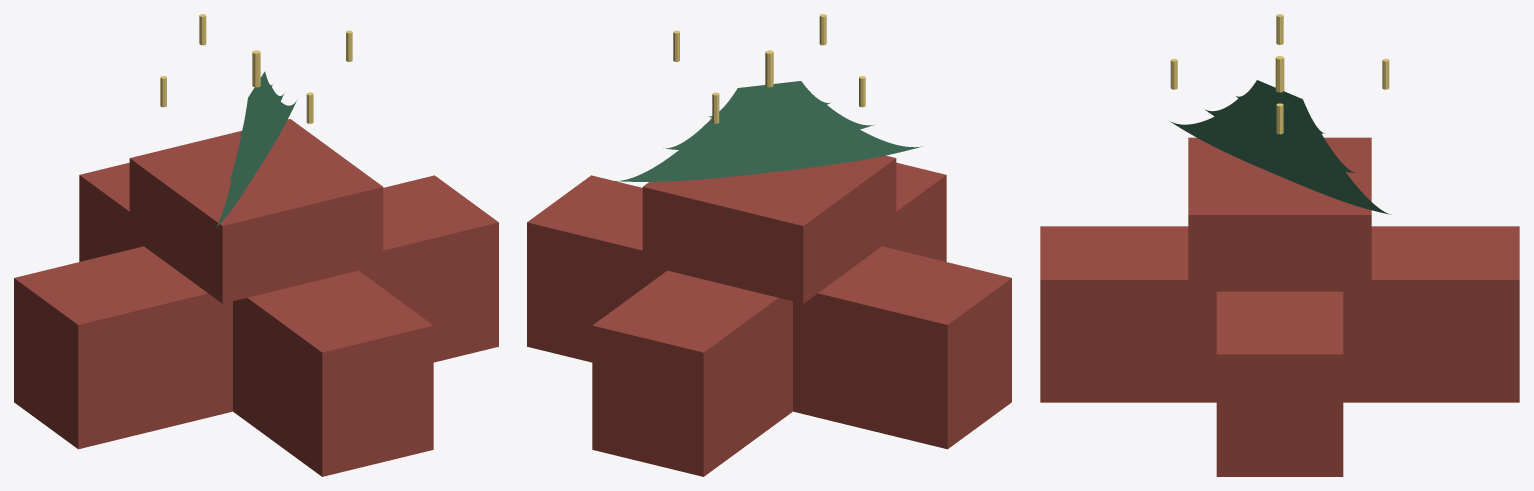
The model's file is jiaolou.glb.
3 views of the same model, side by side, from view 1: azimuth 30°, elevation 25°; view 2: azimuth 150°, elevation 25°; view 3: azimuth 270°, elevation 25° (orthographic).
Visible parts, largest first — view 1: jiaolou; view 2: jiaolou; view 3: jiaolou.
Part boxes in pixels (bbox=[...]): jiaolou: bbox=[14, 14, 498, 476]; jiaolou: bbox=[527, 14, 1011, 476]; jiaolou: bbox=[1040, 14, 1519, 476].
Size of the model in its own units: 34 by 24.9 by 34.
